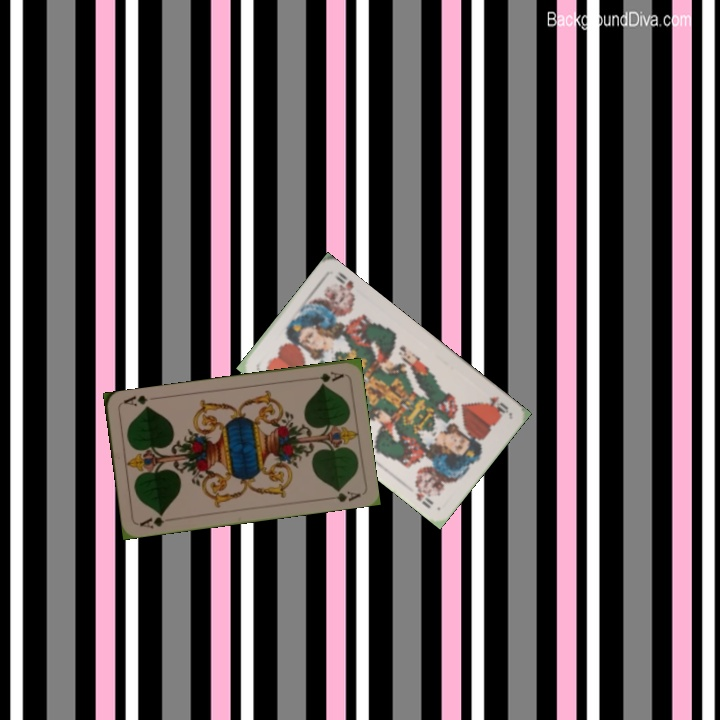GA: (136, 510, 167, 531), (316, 367, 346, 386)
HO: (482, 392, 512, 418)
